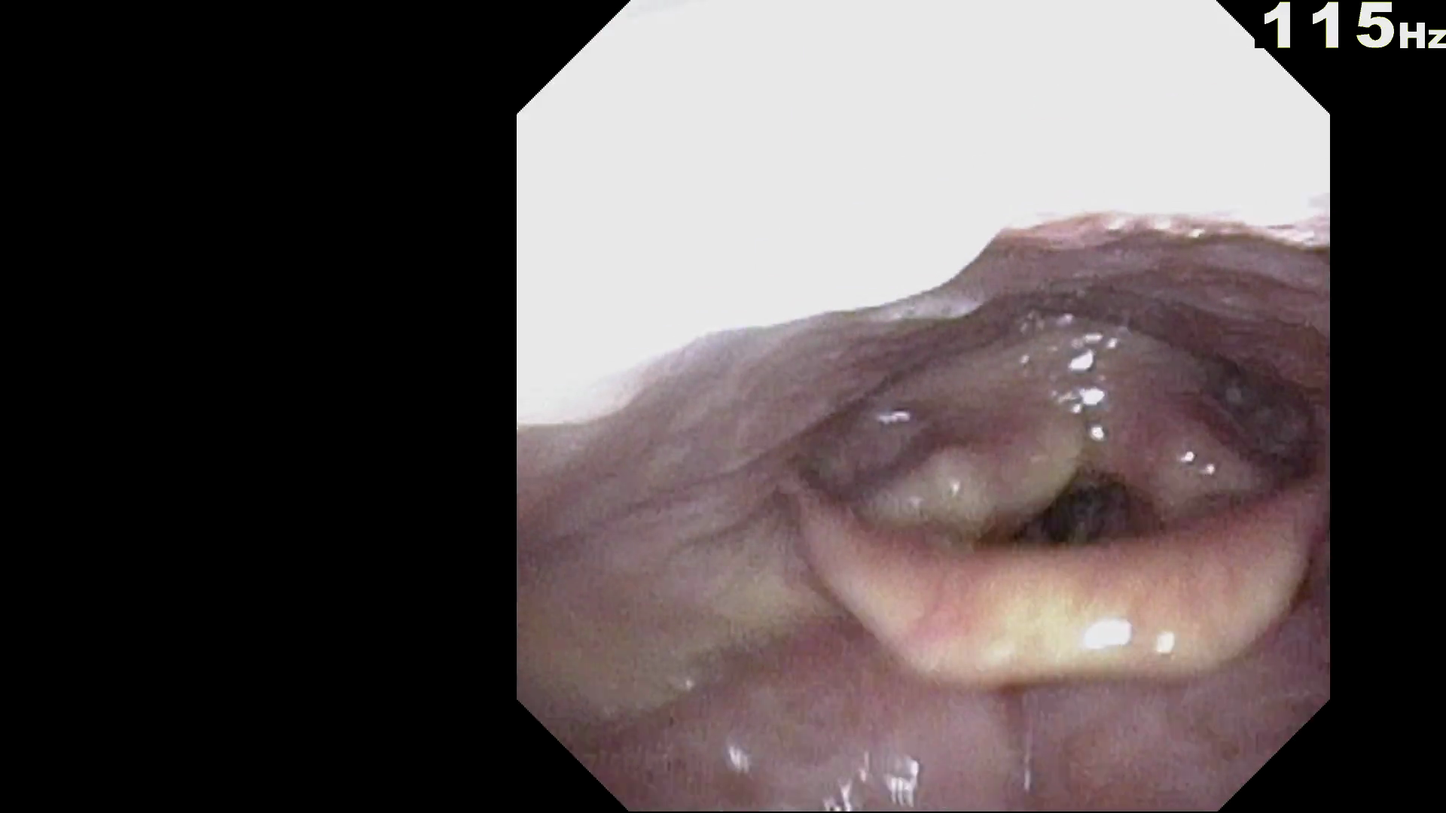epiglottis: (779, 437, 1304, 676)
